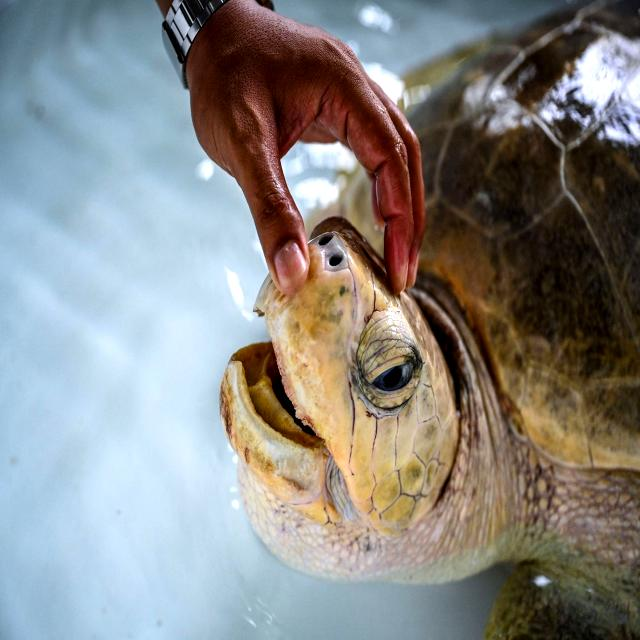Sea turtle: (139, 19, 640, 640)
